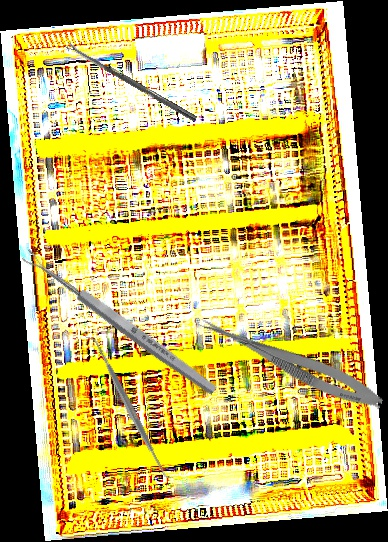Micro Scissor: (193, 311, 388, 416)
Spatula Surgical: (83, 328, 175, 486)
Surgical Spoon: (21, 247, 219, 398), (65, 41, 198, 122)
